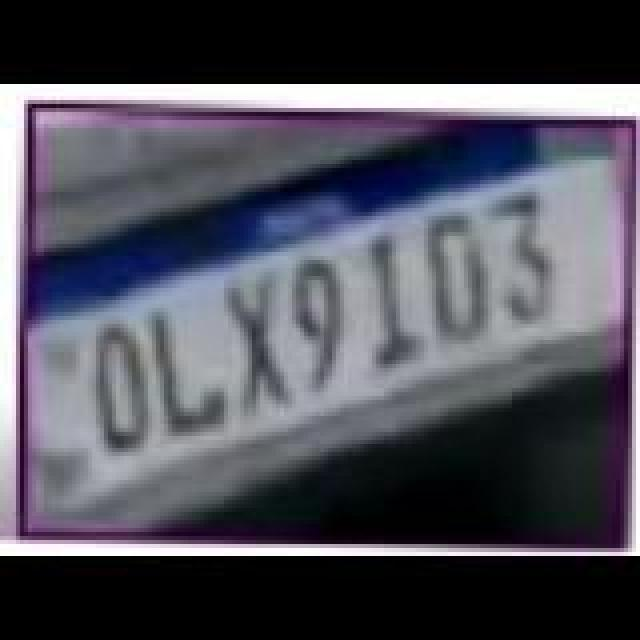3: (498, 192, 558, 328)
9: (290, 260, 350, 396)
D: (428, 214, 492, 346)
I: (368, 232, 424, 368)
L: (156, 308, 228, 436)
O: (92, 322, 156, 462)
X: (226, 274, 294, 414)
